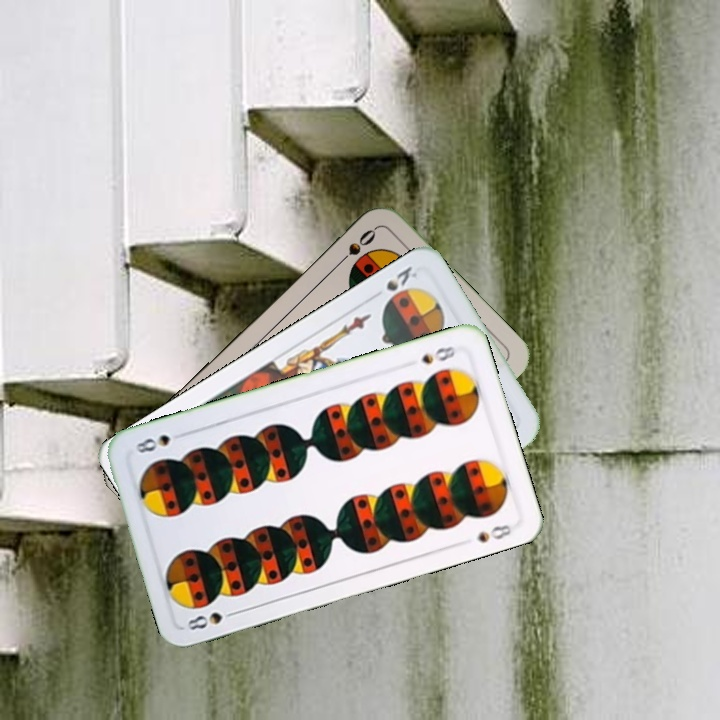S8: (183, 606, 241, 636), (417, 341, 462, 367)
SK: (382, 262, 420, 294)
SO: (332, 224, 379, 269)
